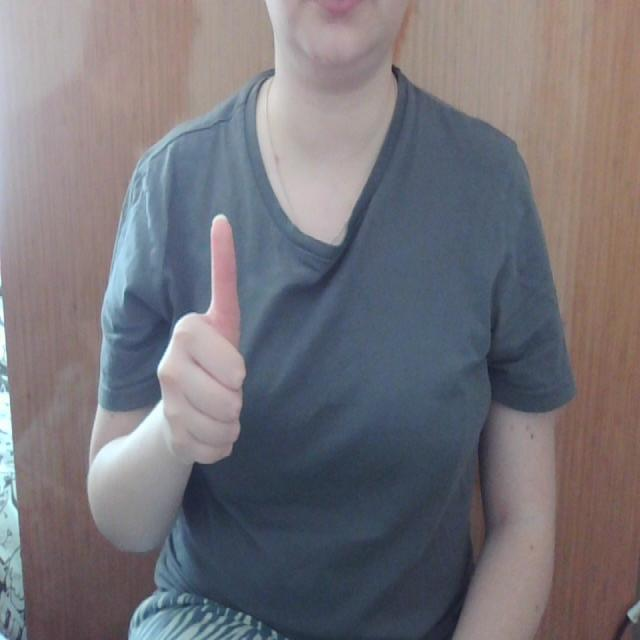Tamam: (153, 206, 253, 478)
